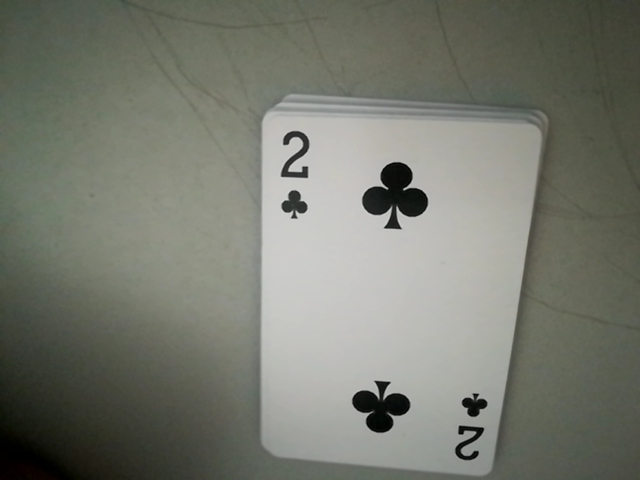mh 2: (263, 118, 323, 229), (450, 387, 495, 472)
